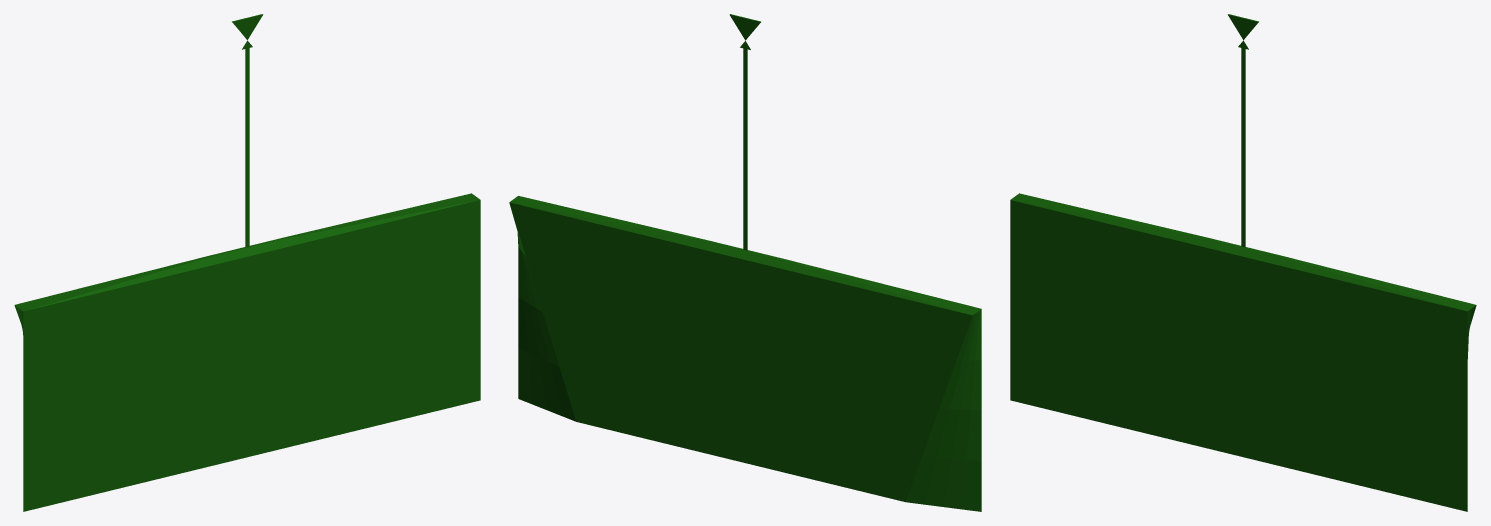
Rendered from GreenSign.fbx.
3 renders of one model, left to right at view 1: azimuth 30°, elevation 25°; view 2: azimuth 150°, elevation 25°; view 3: azimuth 330°, elevation 25°, orthographic.
Parts seen in each view (by area): view 1: Cube; view 2: Cube; view 3: Cube.
Boxes of the visible parts, left/top/right/bottom form: Cube: left=14, top=14, right=480, bottom=511; Cube: left=509, top=14, right=981, bottom=511; Cube: left=1010, top=14, right=1476, bottom=511.
Bounding box in the file's own units: 6.01 × 5.46 × 0.2032.
